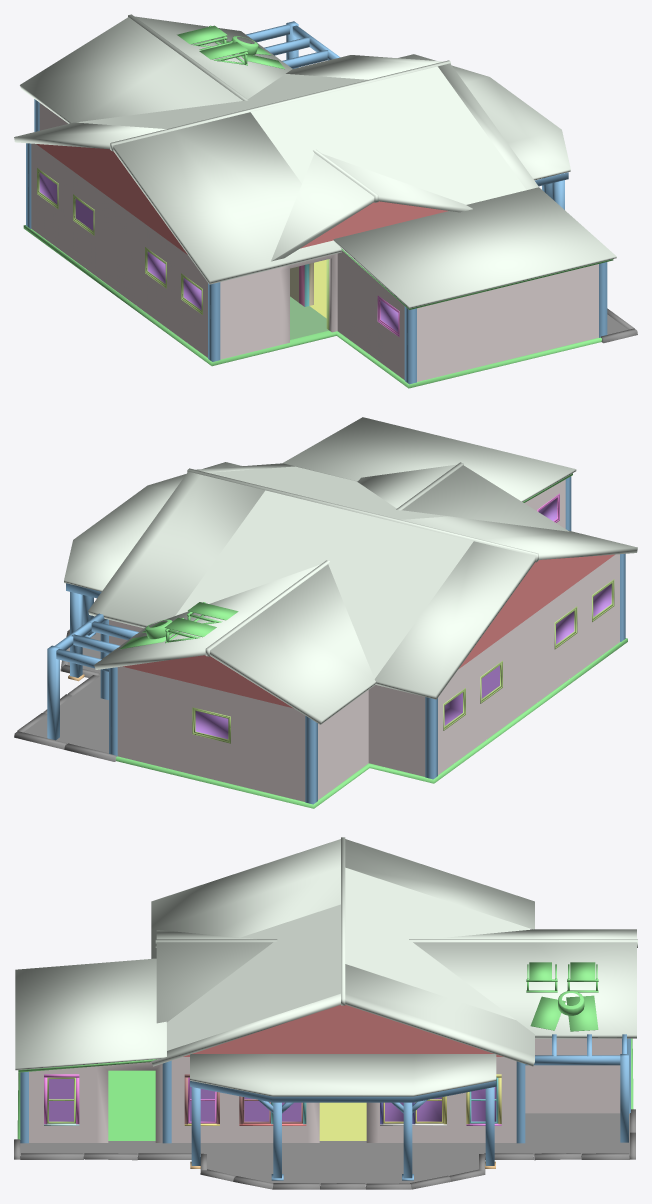
Rendered from SM_GasStationOld.gltf.
The picture shows the model from 3 angles, top to bottom: view 1: azimuth 30°, elevation 25°; view 2: azimuth 150°, elevation 25°; view 3: azimuth 270°, elevation 25°; orthographic projection. The views are drawn at different scales.
Visible parts, largest first — view 1: SM_GasStationOld; view 2: SM_GasStationOld; view 3: SM_GasStationOld.
Part boxes in pixels (left/top/right/bottom): SM_GasStationOld: left=14, top=14, right=637, bottom=388; SM_GasStationOld: left=14, top=417, right=637, bottom=808; SM_GasStationOld: left=14, top=837, right=637, bottom=1189.
Bounding box in the file's own units: 13.51 × 4.76 × 17.73.
